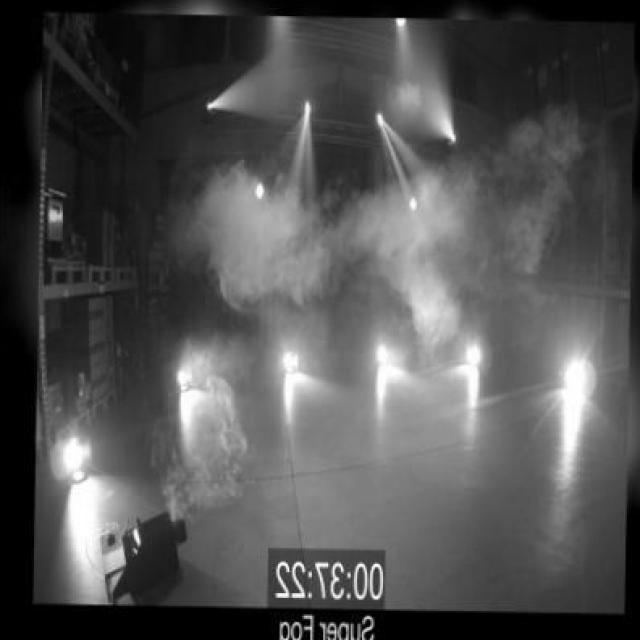fire: (182, 155, 340, 312), (364, 170, 481, 348)
